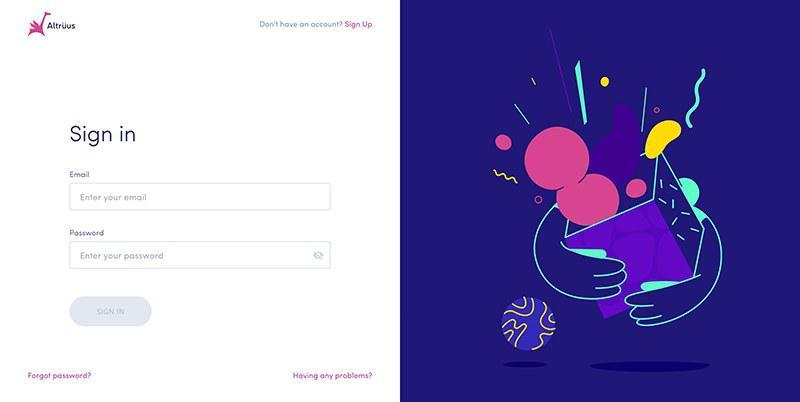button: (69, 297, 153, 327)
input: (71, 184, 331, 211), (71, 242, 331, 268)
label: (70, 125, 138, 149), (259, 20, 375, 31), (292, 372, 377, 381), (27, 371, 93, 381), (68, 229, 106, 237), (68, 171, 92, 179)
